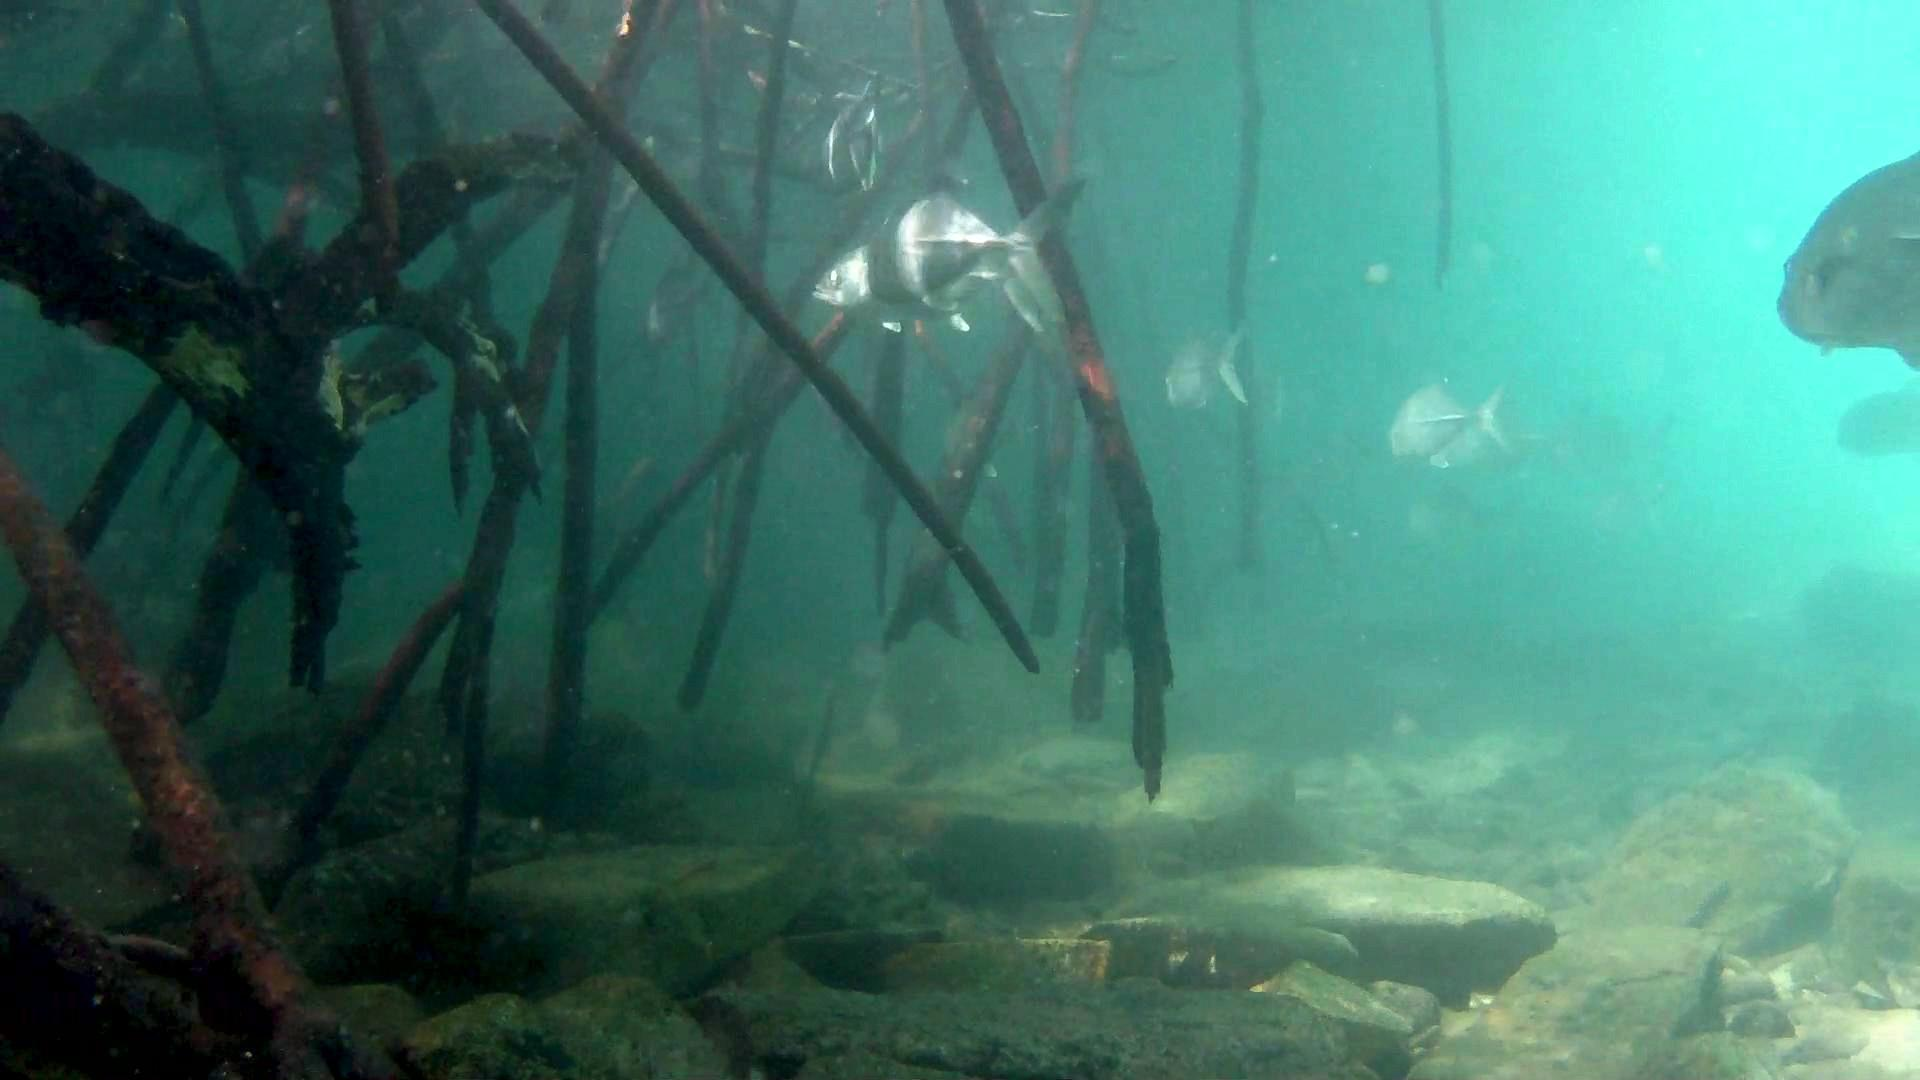caranx: (856, 163, 1092, 344), (1753, 143, 1920, 386)
